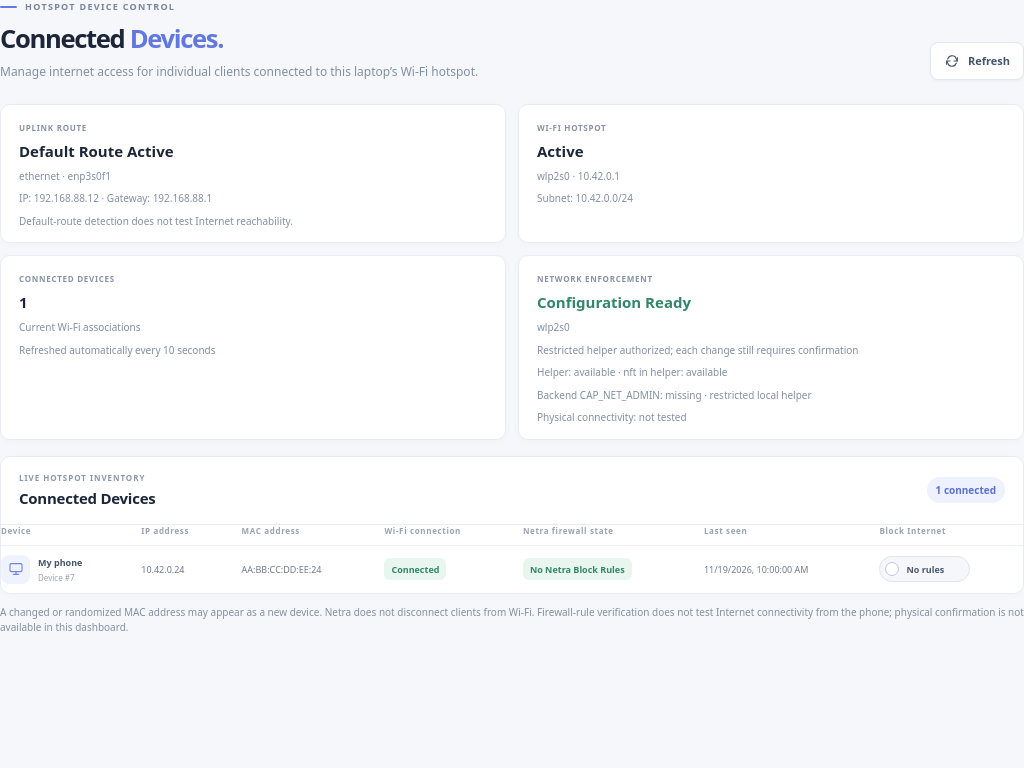
Test case: ConnectedDevicesPage › does not show a successful blocked state when the apply API fails
Click the switch named "Install firewall restrictions for My phone" at (925, 569), box [879, 556, 970, 582]
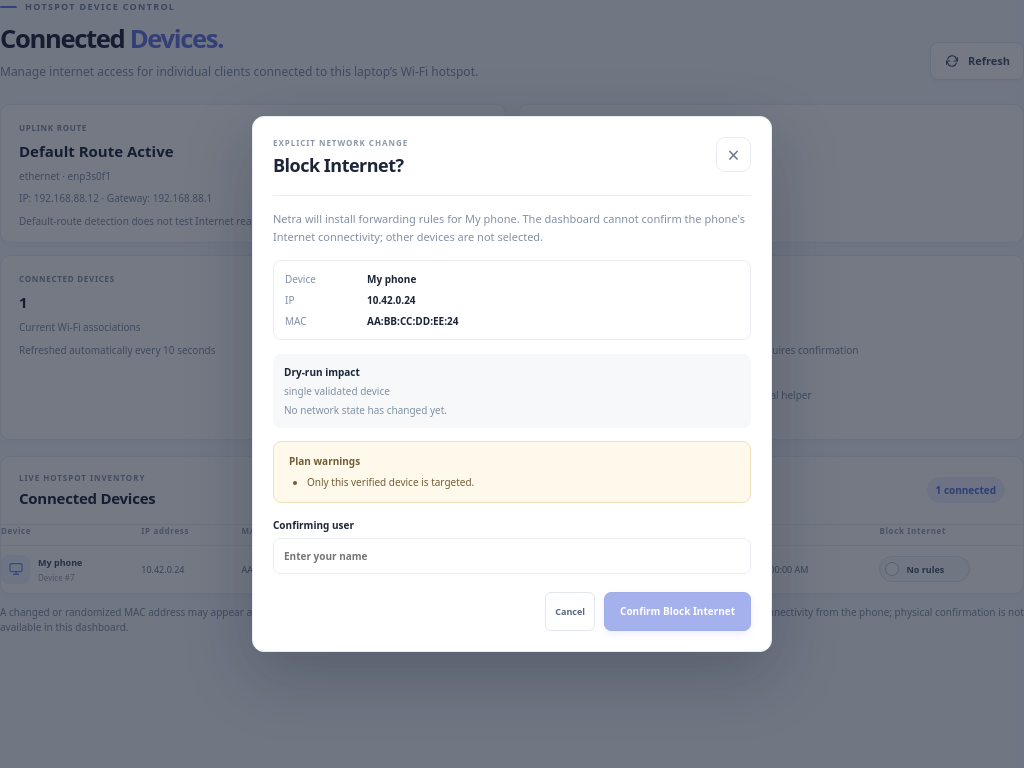
expect the list item "Only this verified device is targeted." is shown: met, box [307, 475, 474, 489]
Type "Meghana" into the field labelled "Confirming user" at (512, 556), box [273, 538, 751, 574]
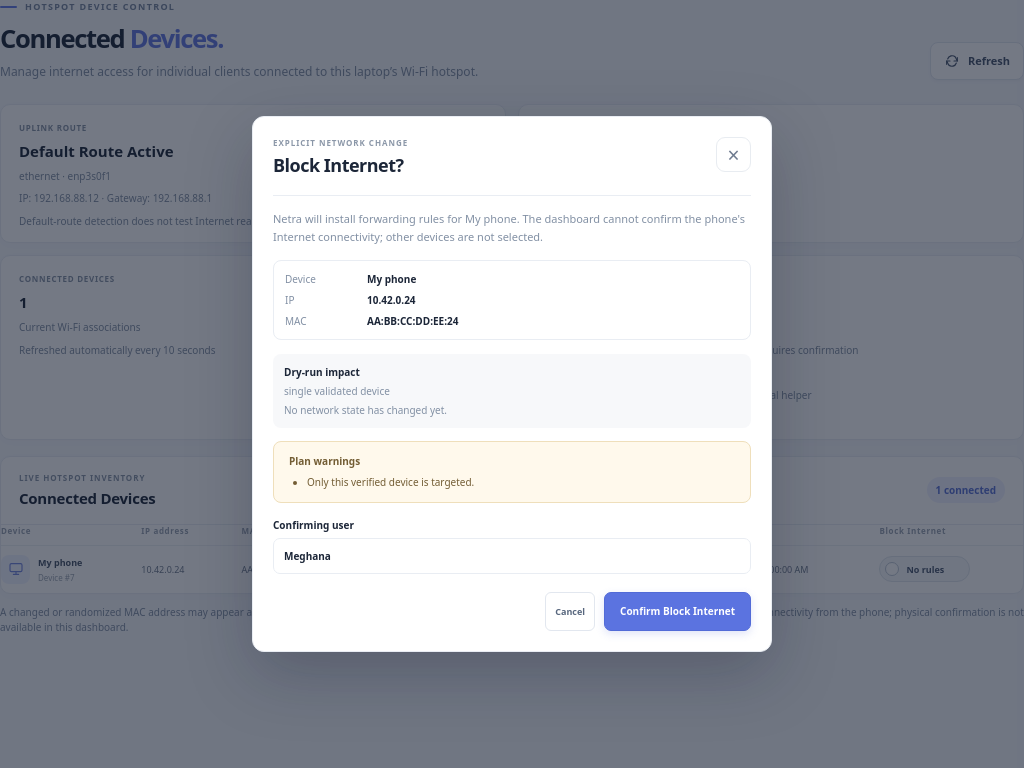
Click the button "Confirm Block Internet" at (678, 611), box [604, 592, 751, 631]
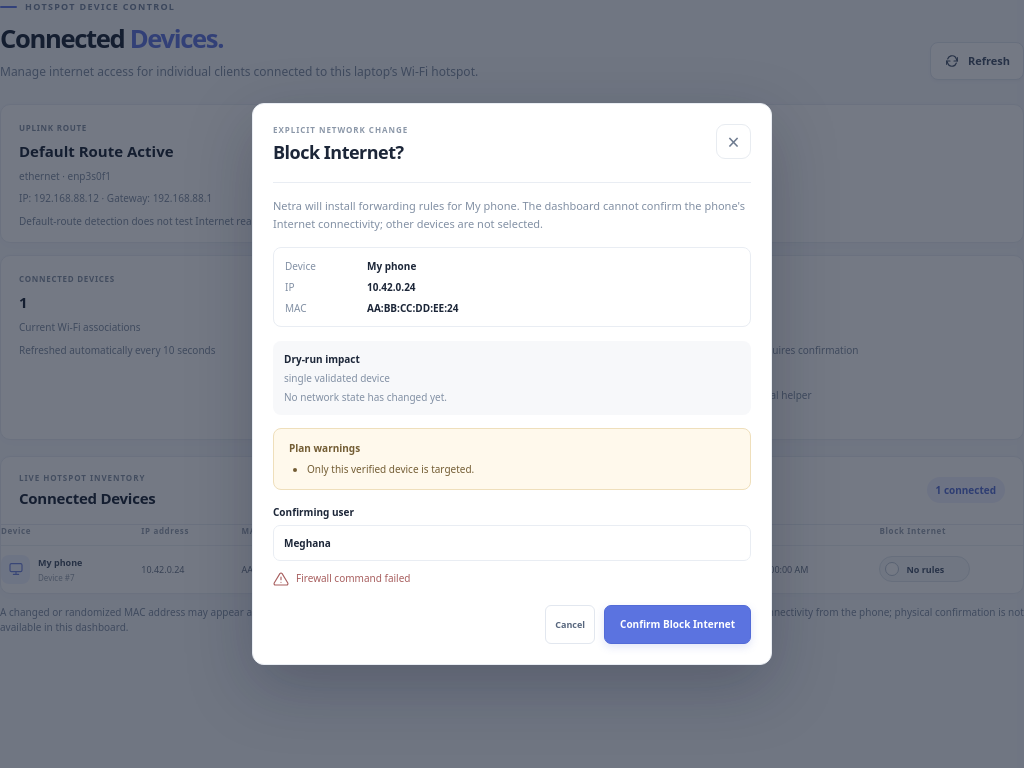
expect the text "Firewall command failed" is shown: met, box [296, 571, 410, 585]
